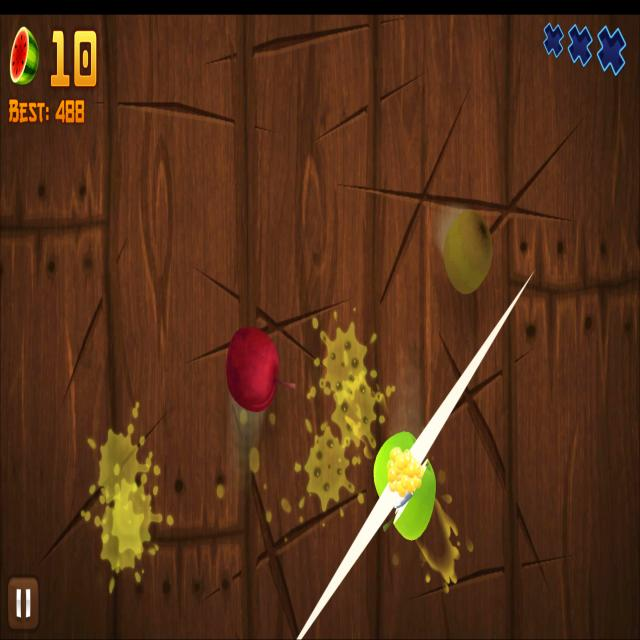fruit: (372, 429, 437, 542), (225, 326, 280, 414), (444, 208, 492, 294)
